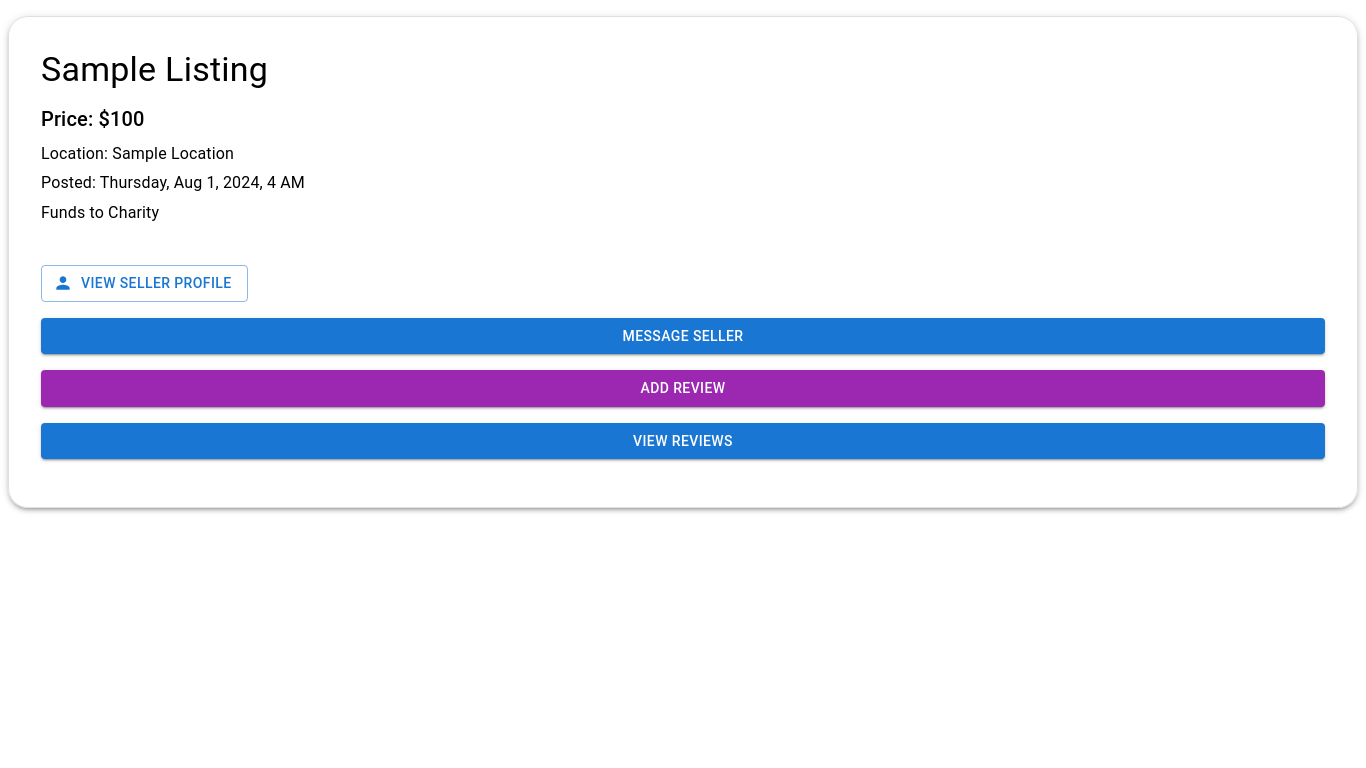
Test: ListingDetails Component › opens and closes message dialog
Click the button "Message Seller".
click(683, 336)  # box x1=41 y1=318 x2=1325 y2=354
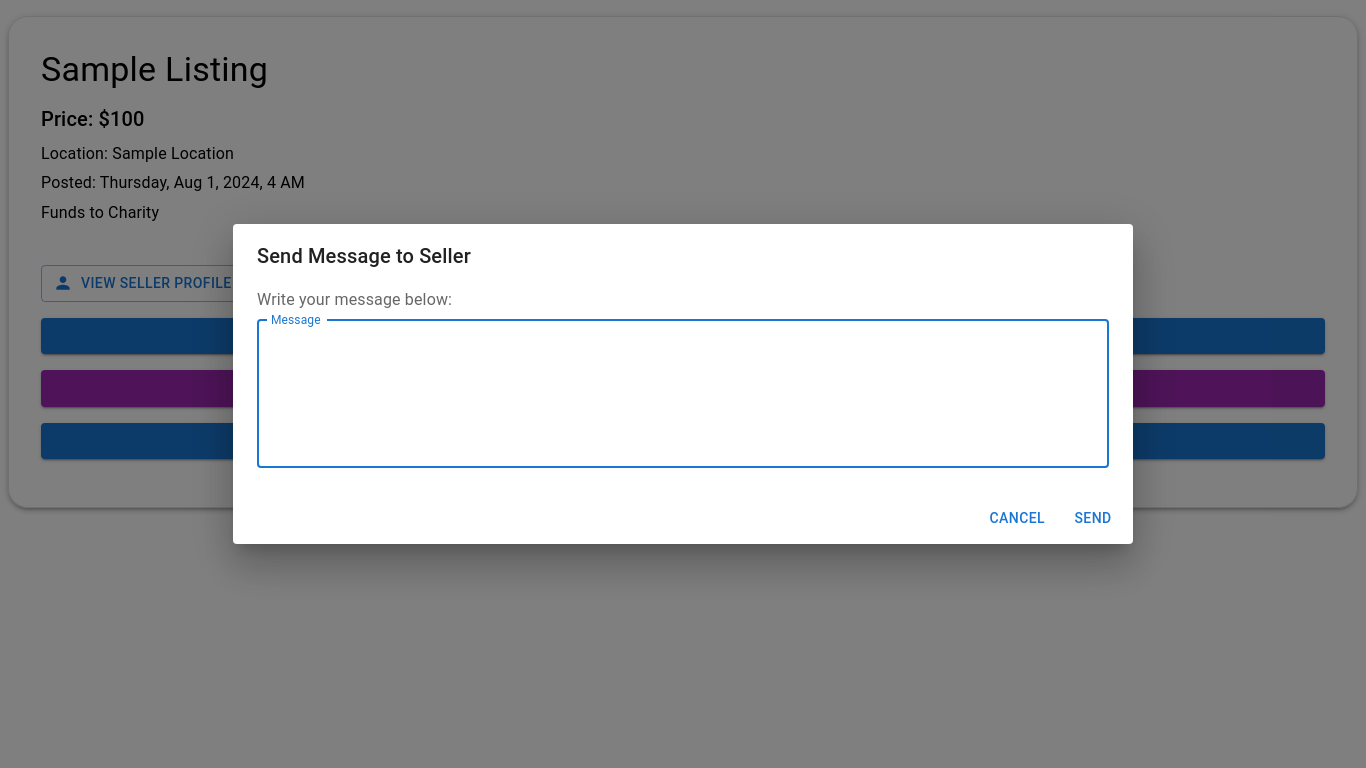
Now the heading "Send Message to Seller" is shown, box x1=257 y1=244 x2=471 y2=268
Click the button "Cancel".
click(1017, 518)  # box x1=982 y1=500 x2=1053 y2=536
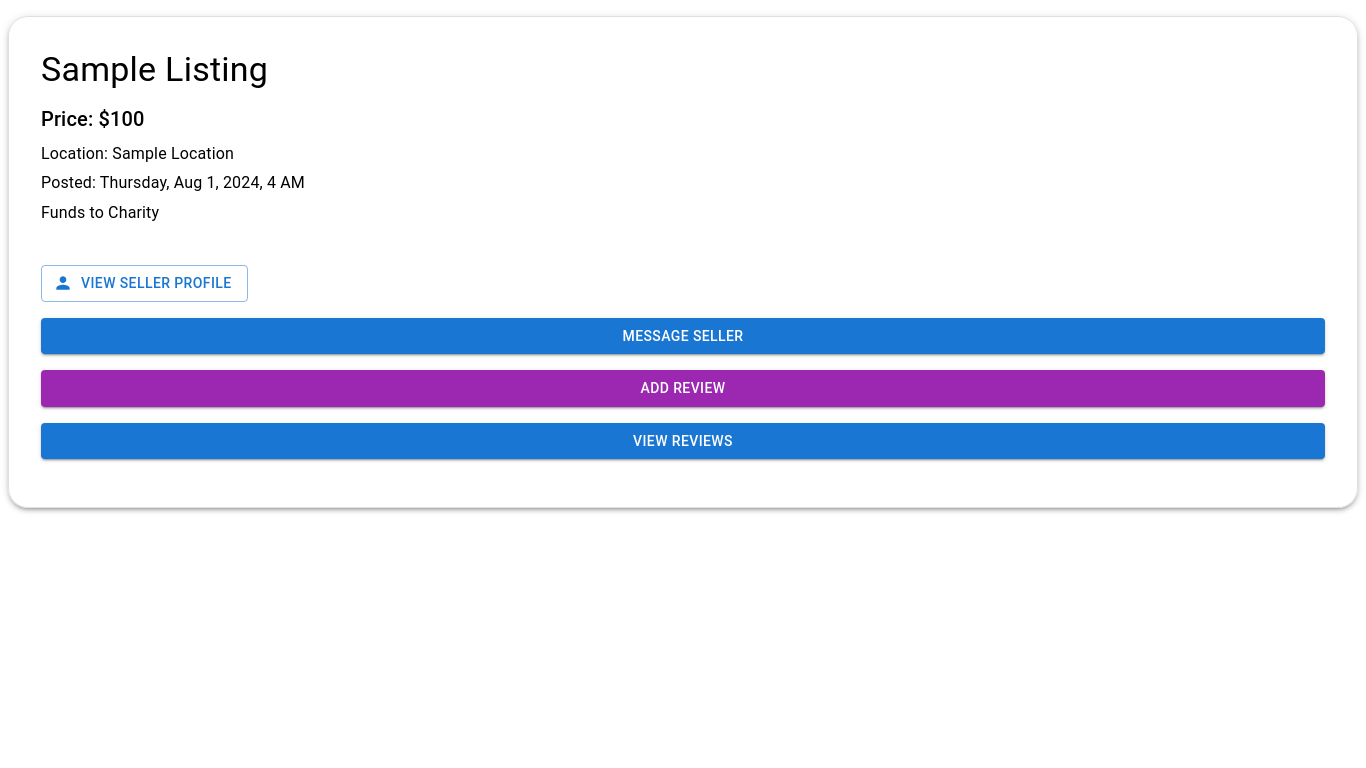
Now the heading "Send Message to Seller" is gone
